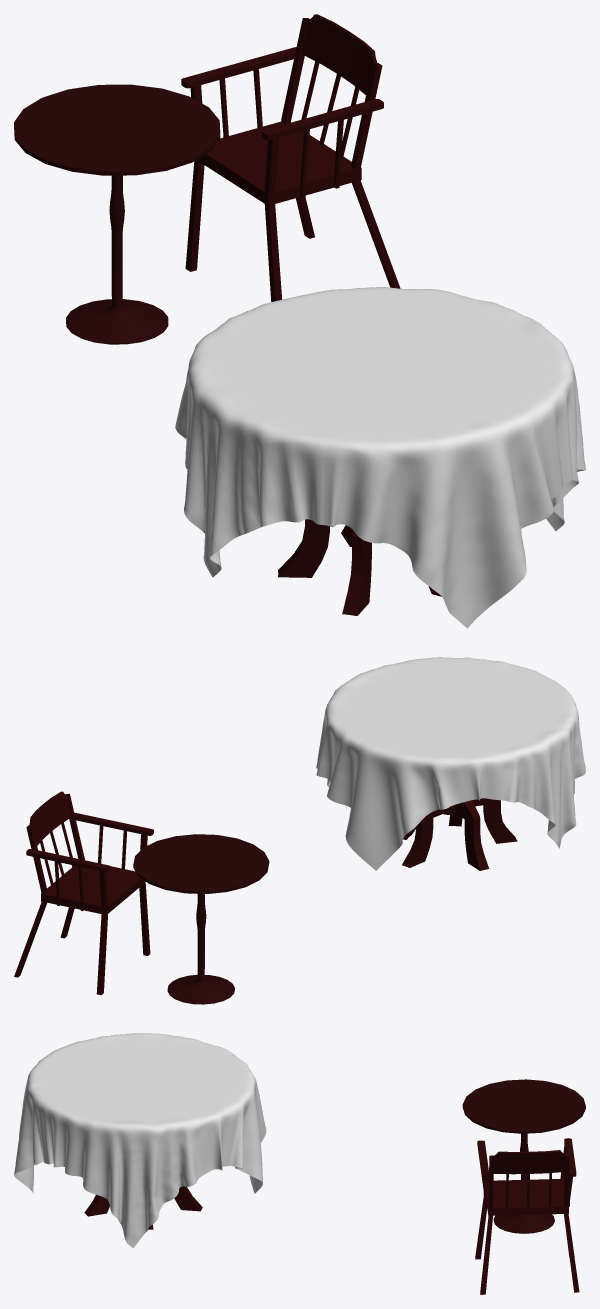
The model's file is Canteen_Table.fbx.
The picture shows the model from 3 angles, top to bottom: view 1: azimuth 30°, elevation 25°; view 2: azimuth 150°, elevation 25°; view 3: azimuth 270°, elevation 25°; orthographic projection. The views are drawn at different scales.
Visible parts, largest first — view 1: Desk_Clothes, Canteen_Chair11, pCylinder12, Desk1; view 2: Desk_Clothes, Canteen_Chair11, pCylinder12, Desk1; view 3: Desk_Clothes, Canteen_Chair11, pCylinder12, Desk1.
Boxes of the visible parts, x1=… form: Desk_Clothes: x1=175, y1=287, x2=585, y2=628; Canteen_Chair11: x1=181, y1=14, x2=400, y2=301; pCylinder12: x1=14, y1=84, x2=220, y2=344; Desk1: x1=278, y1=519, x2=441, y2=615; Desk_Clothes: x1=316, y1=657, x2=585, y2=870; Canteen_Chair11: x1=14, y1=791, x2=153, y2=995; pCylinder12: x1=133, y1=834, x2=269, y2=1004; Desk1: x1=402, y1=798, x2=517, y2=870; Desk_Clothes: x1=14, y1=1033, x2=266, y2=1247; Canteen_Chair11: x1=475, y1=1138, x2=579, y2=1294; pCylinder12: x1=462, y1=1079, x2=585, y2=1233; Desk1: x1=84, y1=1186, x2=202, y2=1229.
Bounding box in the file's own units: 180 × 82.7 × 309.
